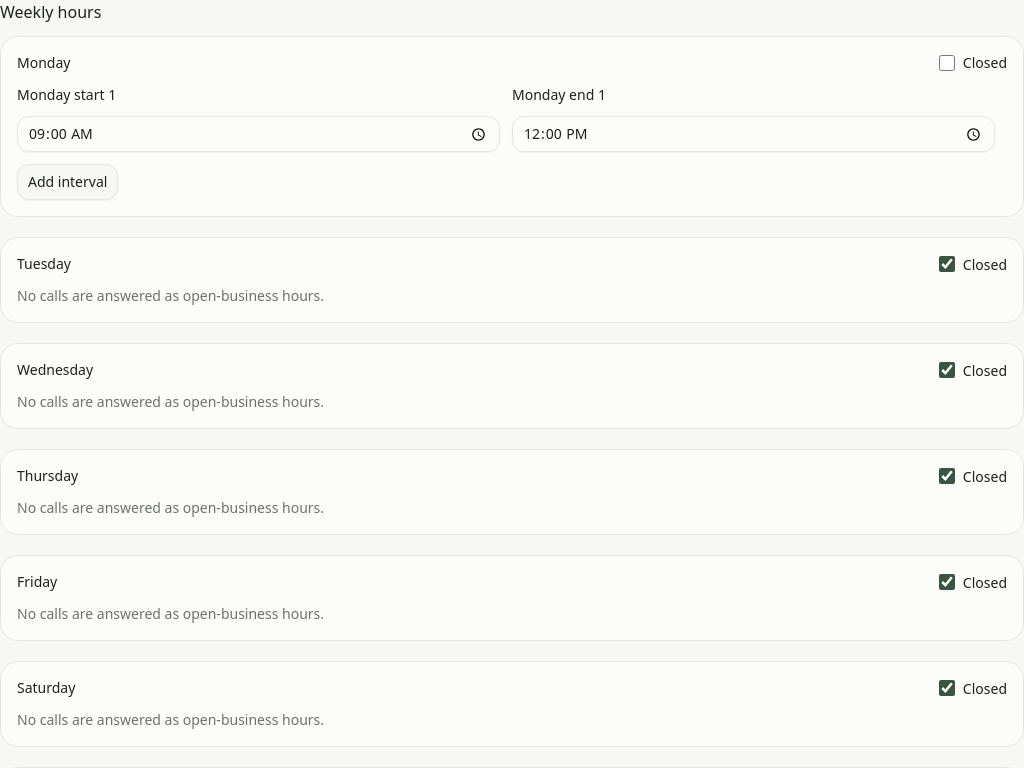
business hours editor › rejects an interval that does not end after it starts
Replace the text in the time field labelled "Monday start 1" with "12:00" at coordinates (258, 134), box 17,116 -> 500,152
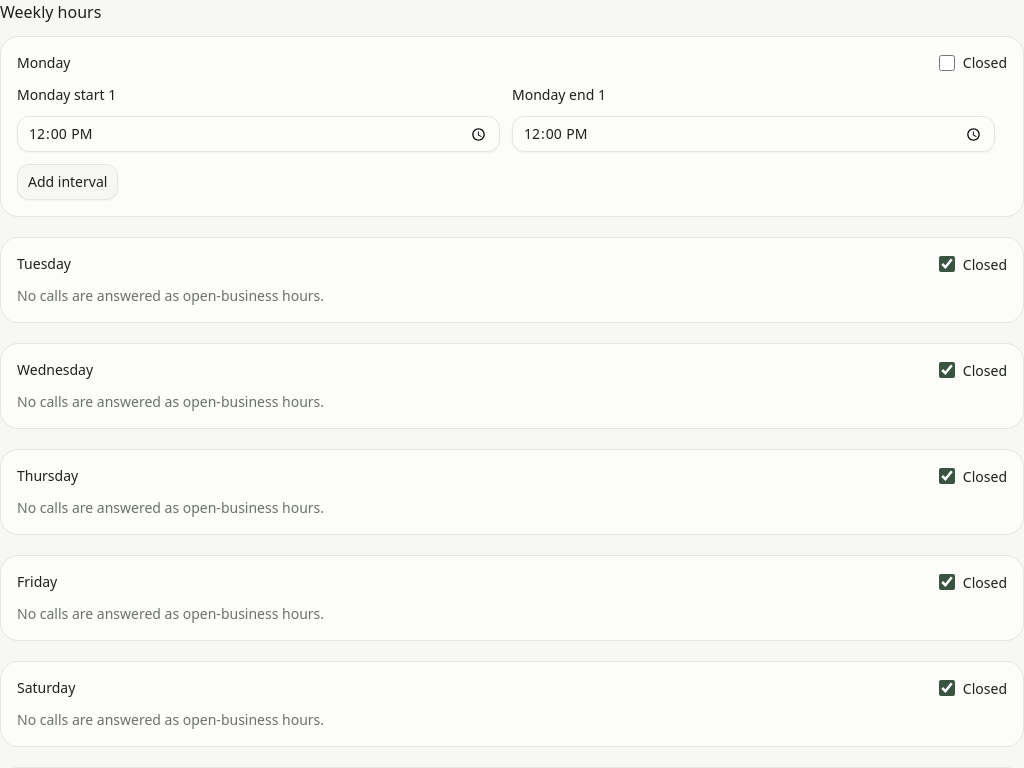
Replace the text in the time field labelled "Monday end 1" with "11:00" at coordinates (754, 134), box 512,116 -> 995,152
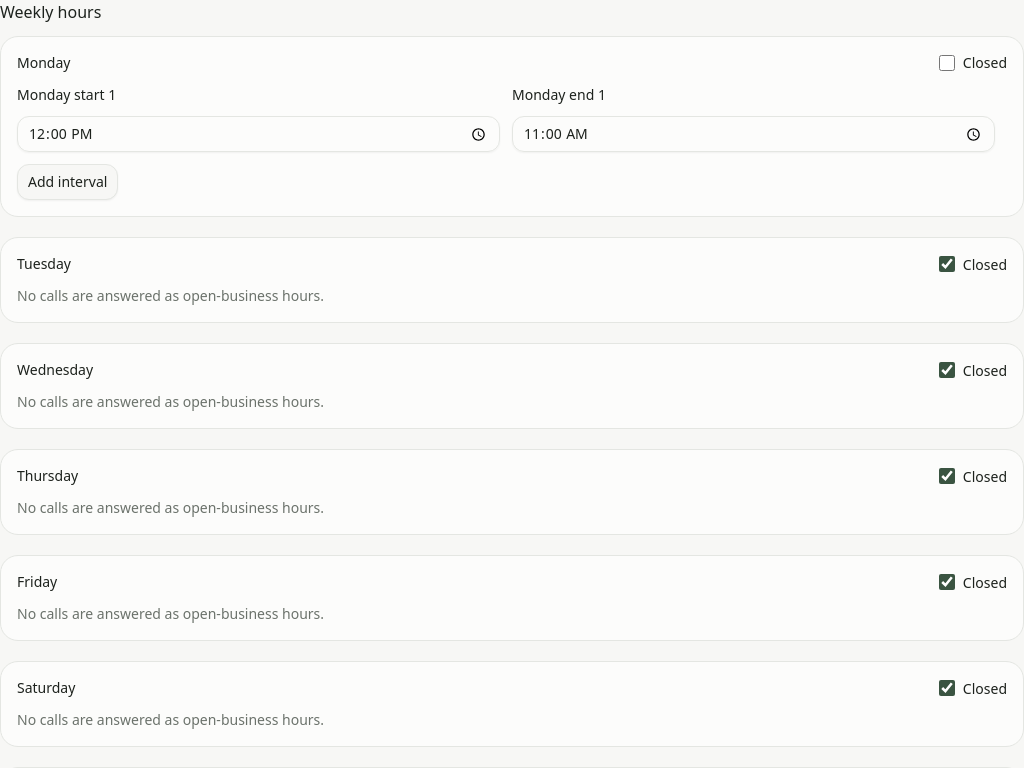
Leave the time field labelled "Monday end 1", box 512,116 -> 995,152
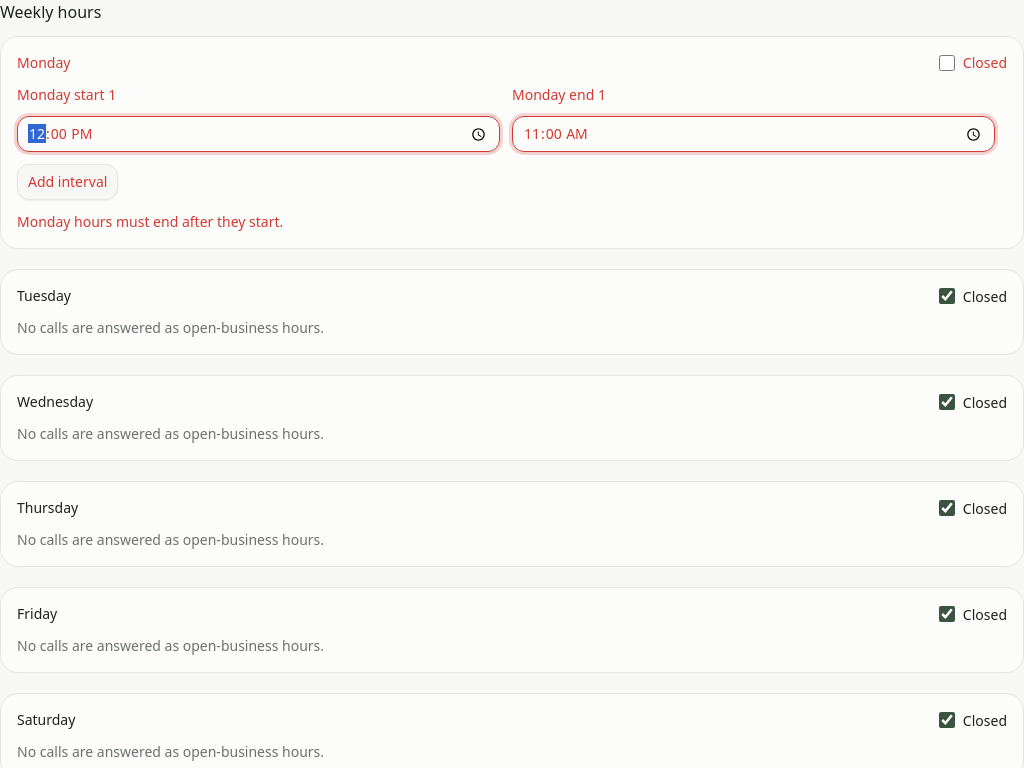
Check: the message shows "end after they start", box 17,212 -> 283,231
